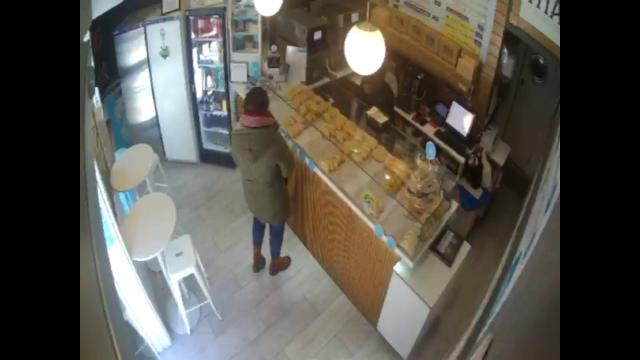cliente: (232, 87, 294, 275)
empleado: (360, 72, 394, 118)
